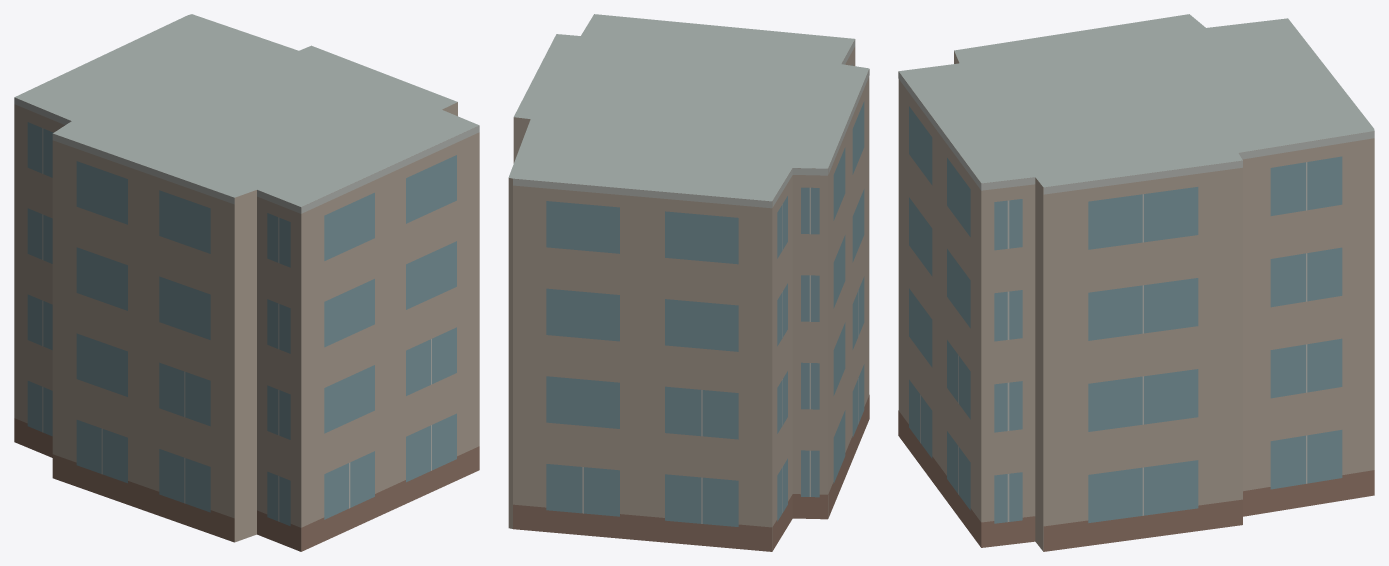
File: survey-upis-32624298.glb
3 renders of one model, left to right at view 1: azimuth 30°, elevation 25°; view 2: azimuth 150°, elevation 25°; view 3: azimuth 270°, elevation 25°, orthographic. The views are drawn at different scales.
Visible parts, largest first — view 1: survey-upis-32624298.tmp; view 2: survey-upis-32624298.tmp; view 3: survey-upis-32624298.tmp.
Part boxes in pixels (<box>): survey-upis-32624298.tmp: <box>14,14,479,551</box>; survey-upis-32624298.tmp: <box>508,14,869,551</box>; survey-upis-32624298.tmp: <box>898,14,1374,551</box>.
Size of the model in its own units: 12.61 by 12.35 by 14.63.
